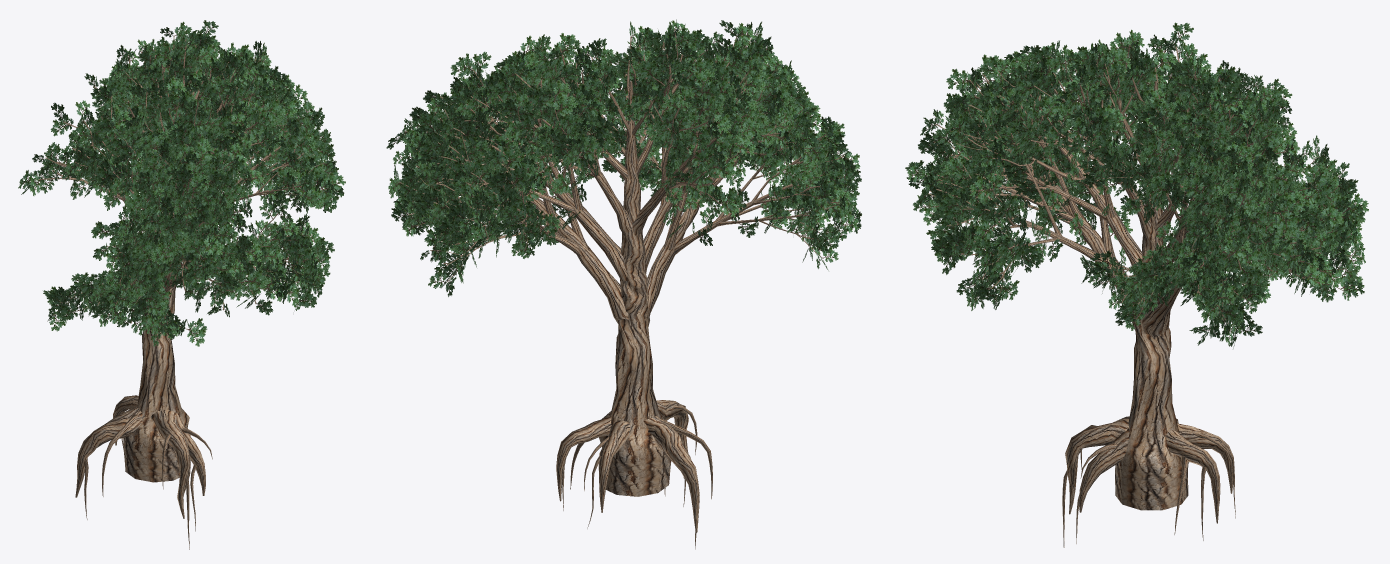
File: turbotwig-broadleaf-12345.glb
The picture shows the model from 3 angles, left to right: view 1: azimuth 30°, elevation 25°; view 2: azimuth 150°, elevation 25°; view 3: azimuth 270°, elevation 25°; orthographic projection. The views are drawn at different scales.
Parts seen in each view (by area): view 1: leaves, bark; view 2: leaves, bark; view 3: leaves, bark.
Part boxes in pixels (x1,y1,x2,y2): leaves: (18,20,345,346); bark: (35,35,327,549); leaves: (386,19,861,296); bark: (399,28,845,549); leaves: (905,22,1368,348); bark: (918,43,1355,547).
Size of the model in its own units: 11.64 by 14.35 by 11.79.
Materials: 2 (2 with a texture image).
